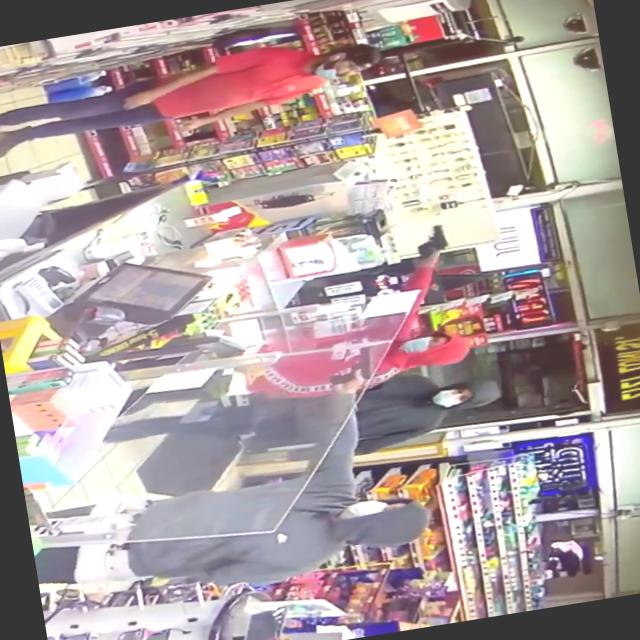handgun: (314, 341, 386, 393), (402, 218, 462, 264)
